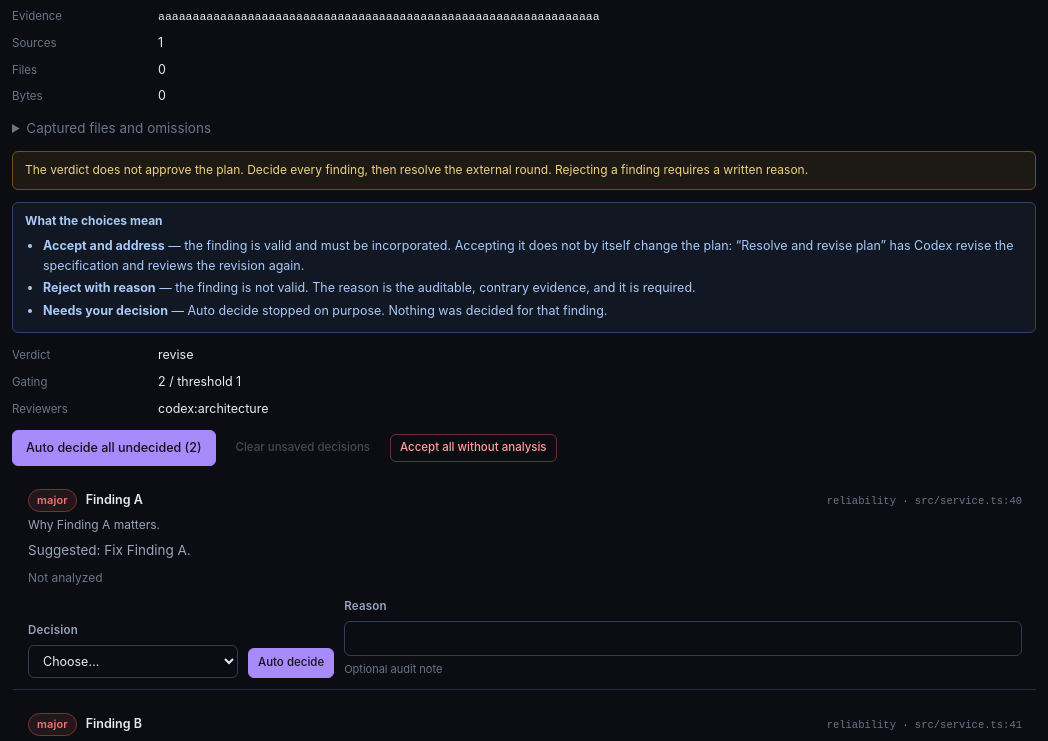
Test: plan review: Auto decide beside every Decision › puts an accept into Decision and Reason at once, with no second Apply click
Expected: the text "Finding A" is shown, [86,490,143,509]
Click the button with aria-label "Auto decide: Finding A". click: click(291, 663)
box: [248,648,334,678]
(page scrolled)
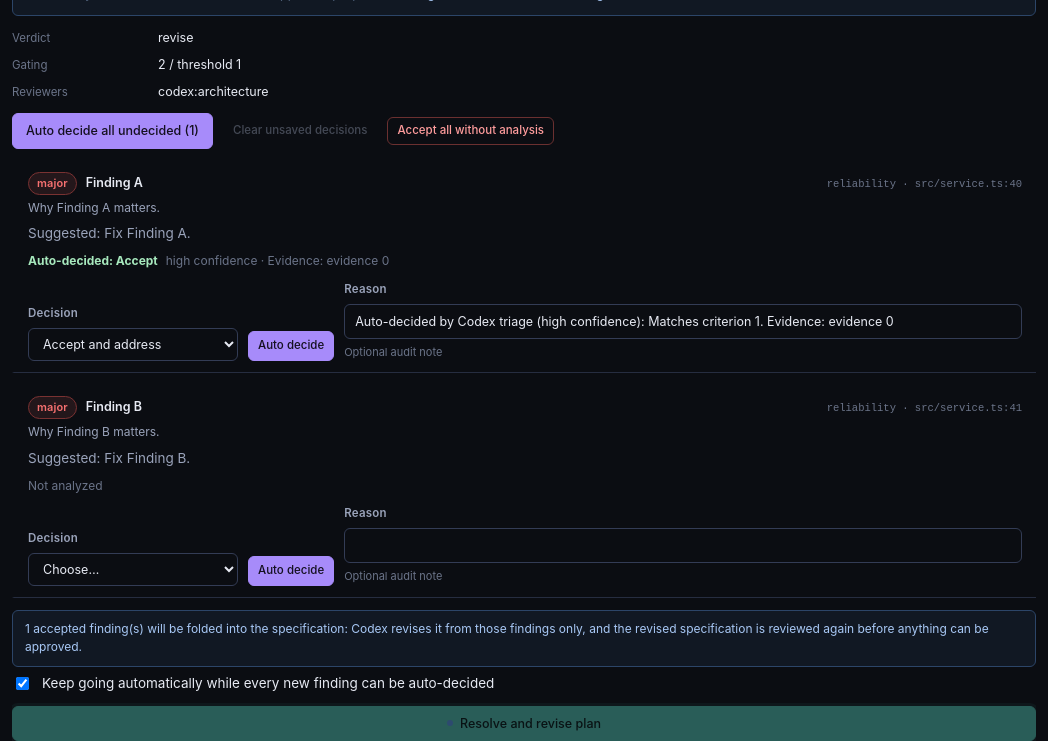
Expected: the dropdown labelled "Decision" below "Not analyzed" shows "Choose…", [28,552,238,586]
Expected: the dropdown labelled "Decision" below "Auto-decided:" shows "Accept and address", [28,328,238,361]
Expected: the text "Auto-decided: Accept" is shown, [28,252,158,271]
